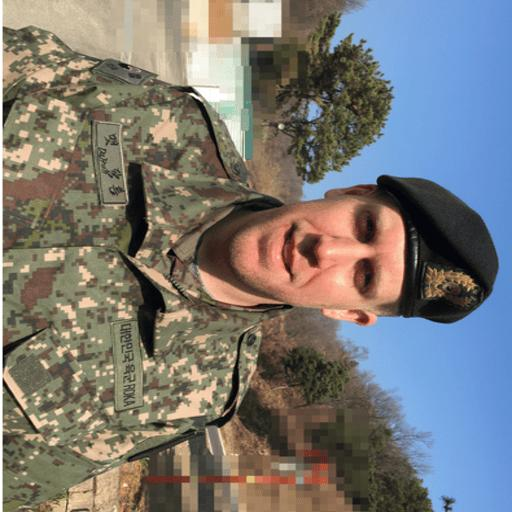korea army: (4, 36, 281, 502)
